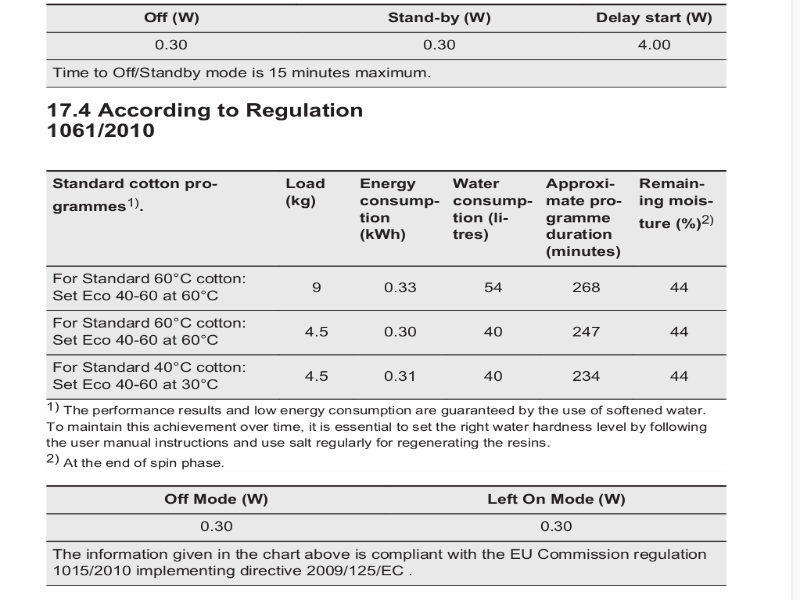borderless: (36, 163, 731, 402), (40, 481, 730, 587), (41, 1, 736, 95)
cell: (49, 545, 710, 578), (49, 174, 220, 220), (51, 64, 434, 84), (543, 173, 625, 261), (50, 359, 251, 394), (50, 270, 248, 304), (450, 173, 539, 248), (51, 315, 249, 348), (354, 174, 442, 247), (633, 175, 720, 233), (484, 489, 633, 512), (590, 8, 716, 28), (158, 491, 275, 510), (384, 9, 495, 27), (283, 174, 329, 213), (139, 9, 204, 28), (378, 320, 421, 341), (533, 516, 580, 535), (148, 36, 195, 54), (380, 364, 418, 386), (378, 278, 423, 296), (567, 277, 607, 297), (477, 364, 513, 386), (566, 366, 607, 385), (634, 36, 677, 54), (567, 322, 606, 341), (477, 276, 511, 297), (300, 321, 332, 341), (300, 366, 332, 386), (665, 365, 695, 386), (420, 37, 461, 52), (664, 322, 693, 343), (664, 277, 694, 297), (478, 322, 510, 340), (197, 519, 236, 533), (305, 276, 328, 297)
